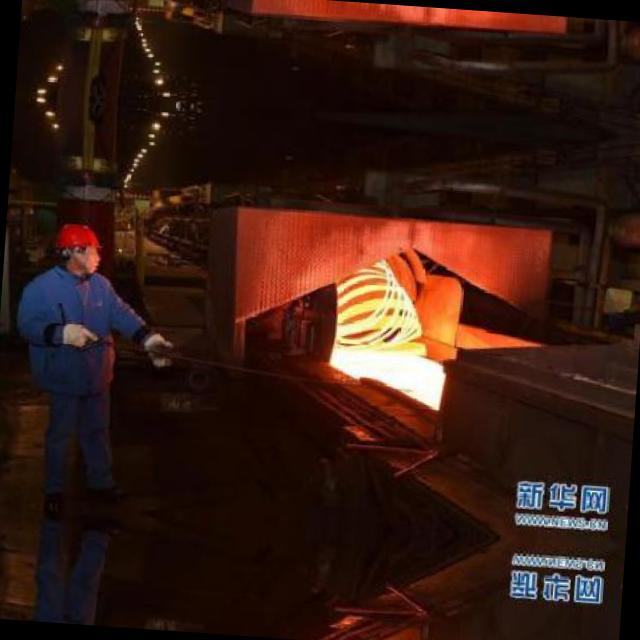helmet: (50, 216, 106, 274)
